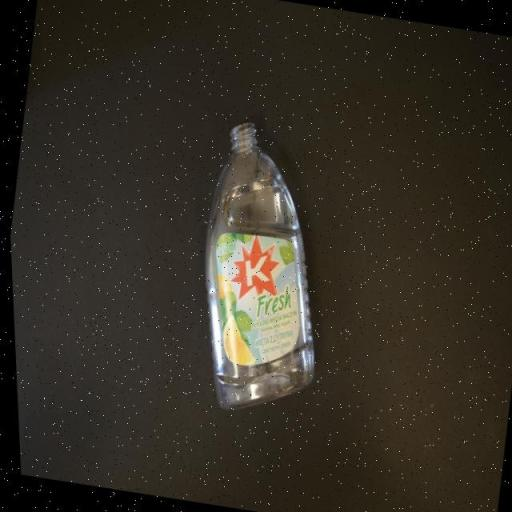plastic: (173, 118, 351, 426)
